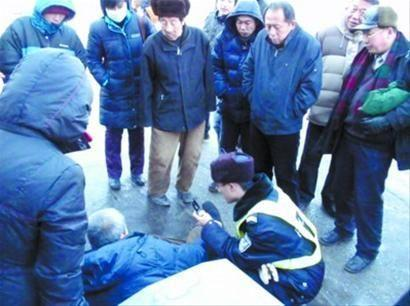Fall-Detected: (76, 202, 209, 298)
